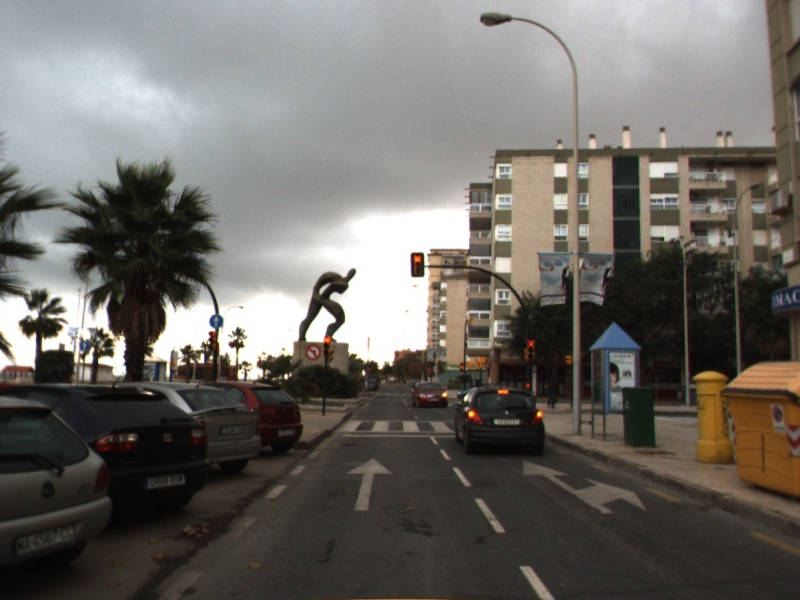STRAIGHT: (345, 456, 394, 512)
STRAIGHT_RIGHT: (520, 457, 649, 515)
